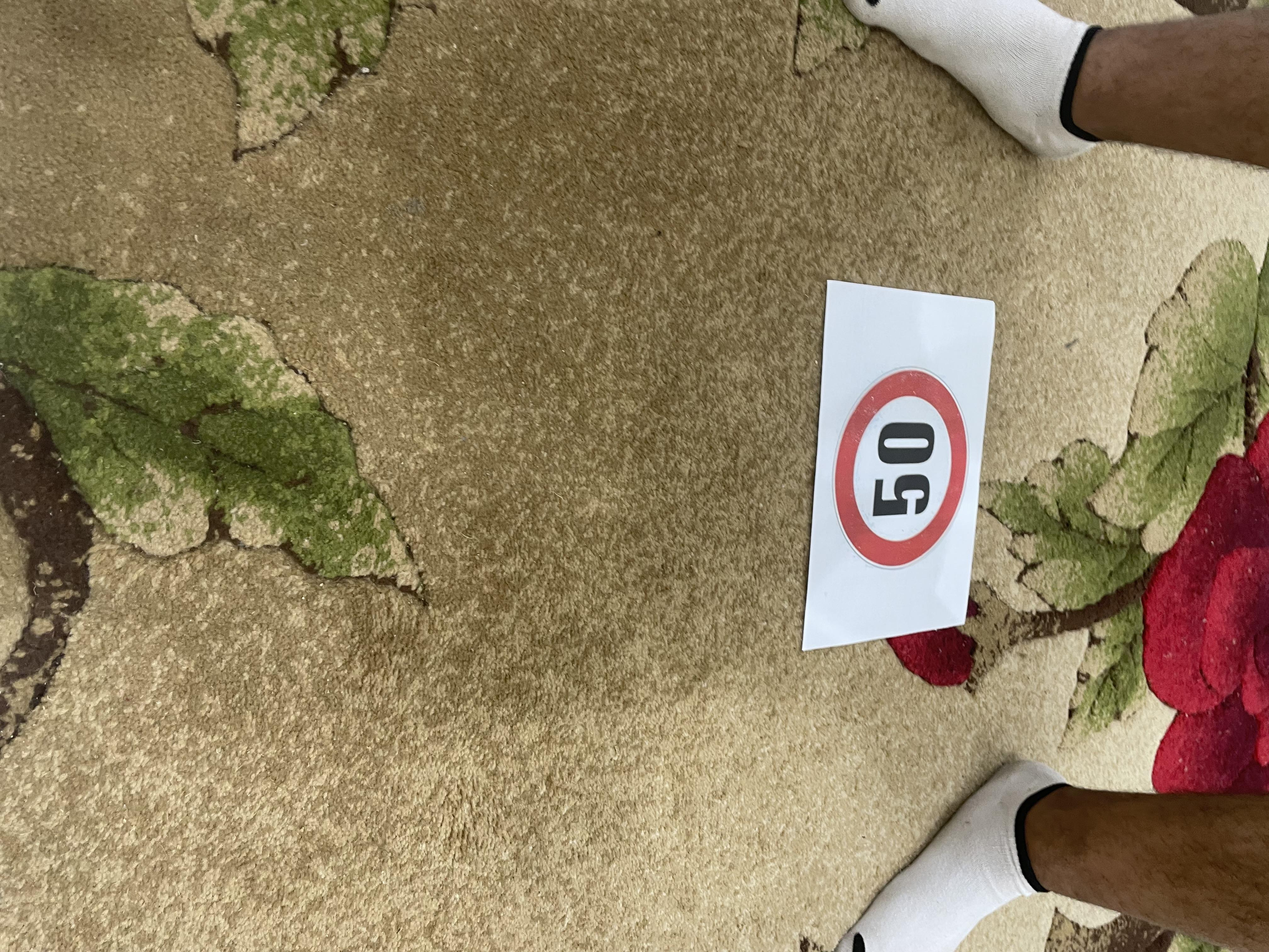50-Speed: (486, 222, 763, 328)
